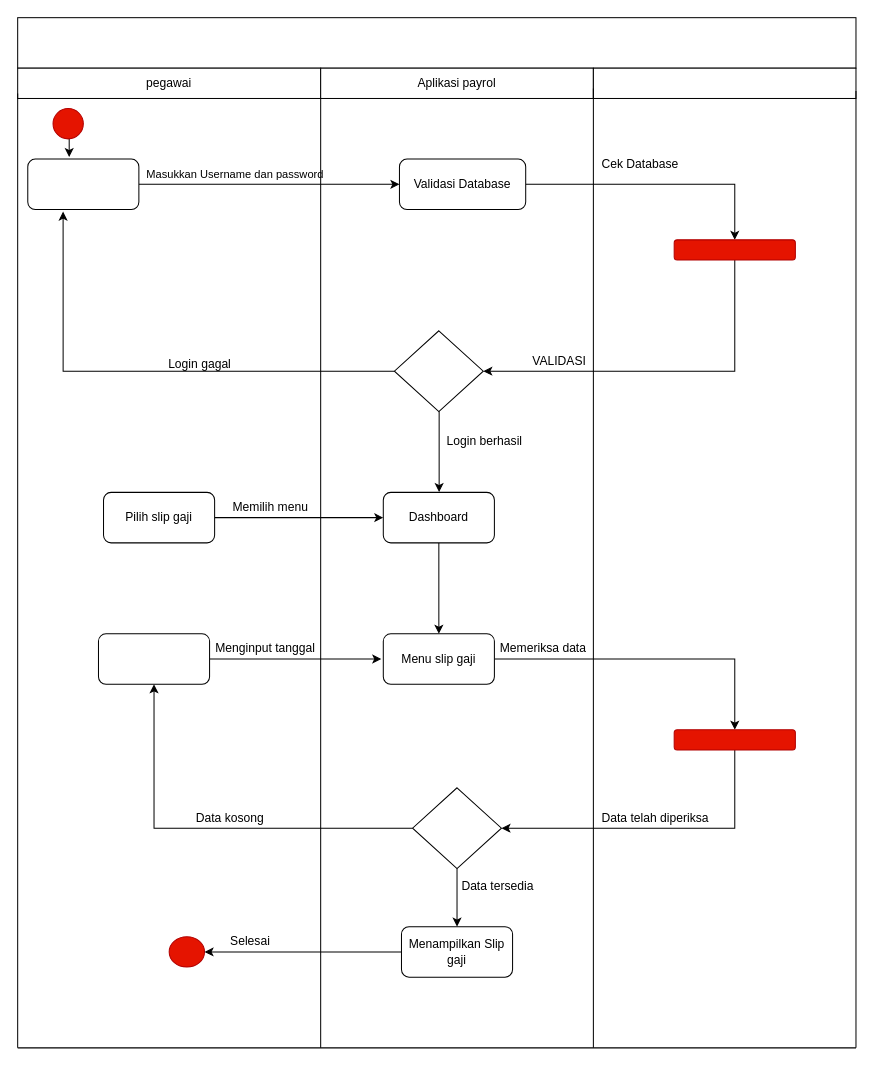
Image size: 875x1067. Some labels were removed from this diagram. Each missing label, with the centre of its shape:
"Database" belongs at pixel 724 82.
"Login" belongs at pixel 83 184.
"Memilih tanggal" belongs at pixel 153 658.
"Sistem Payrol" belongs at pixel 436 42.
